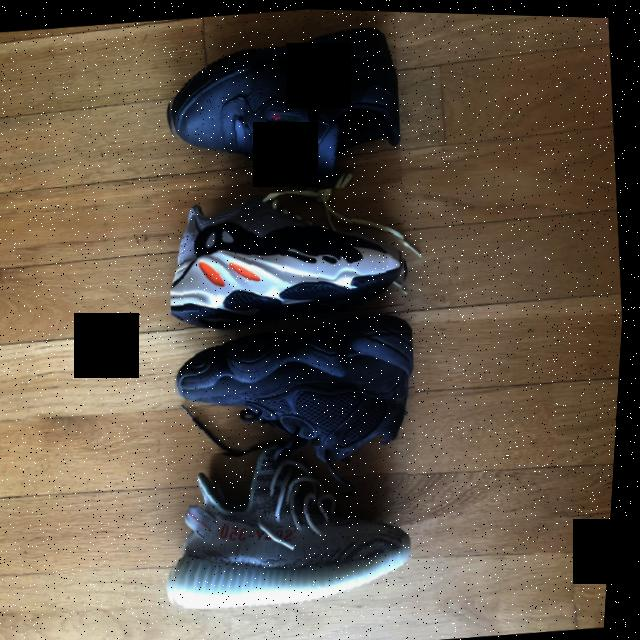shoe: (160, 430, 426, 612), (156, 17, 411, 205), (167, 304, 430, 481), (162, 175, 420, 339)
